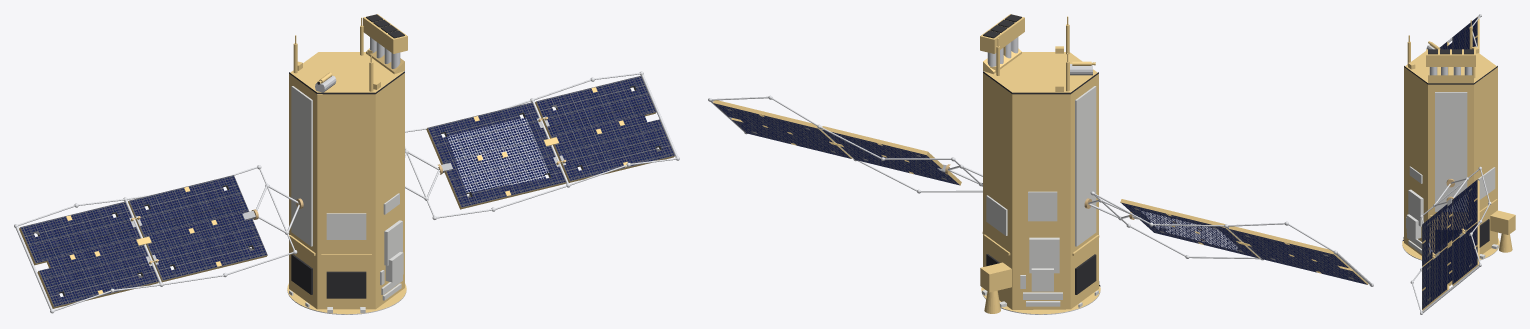
File: oco2.glb
3 renders of one model, left to right at view 1: azimuth 30°, elevation 25°; view 2: azimuth 150°, elevation 25°; view 3: azimuth 270°, elevation 25°, orthographic. The views are drawn at different scales.
Visible parts, largest first — view 1: Layer_0; view 2: Layer_0; view 3: Layer_0.
Boxes of the visible parts, box(x1,y1,x2,y2) form: Layer_0: box(14, 14, 679, 314); Layer_0: box(708, 14, 1373, 314); Layer_0: box(1402, 14, 1515, 314).
Size of the model in its own units: 1 by 0.3867 by 0.1913.
Materials: 23 (6 with a texture image).
